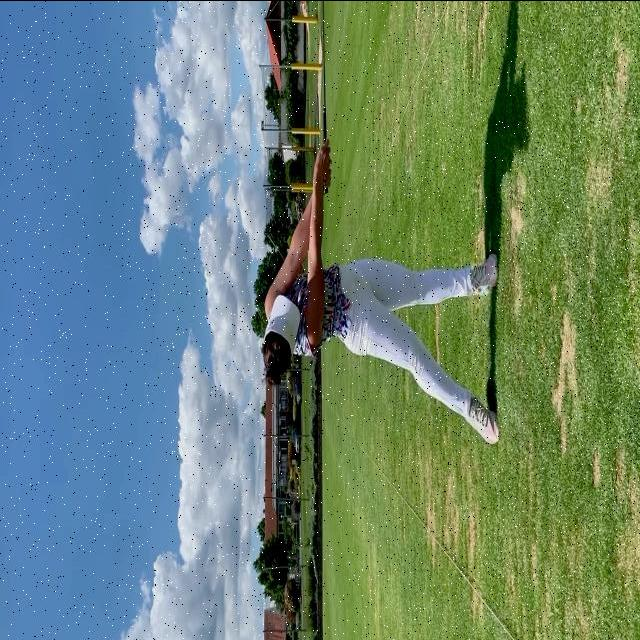ClubHandle: (318, 0, 332, 195)
